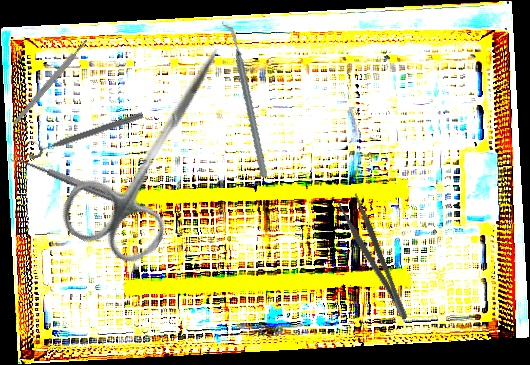Chopper: (194, 21, 296, 179)
Dressing Forceps: (336, 192, 411, 326)
Fixation Ring: (24, 102, 145, 161)
Iris Scissors: (53, 21, 258, 275)
Scalpel Handle: (11, 38, 90, 126)
Surgical Spoon: (10, 152, 139, 212)
